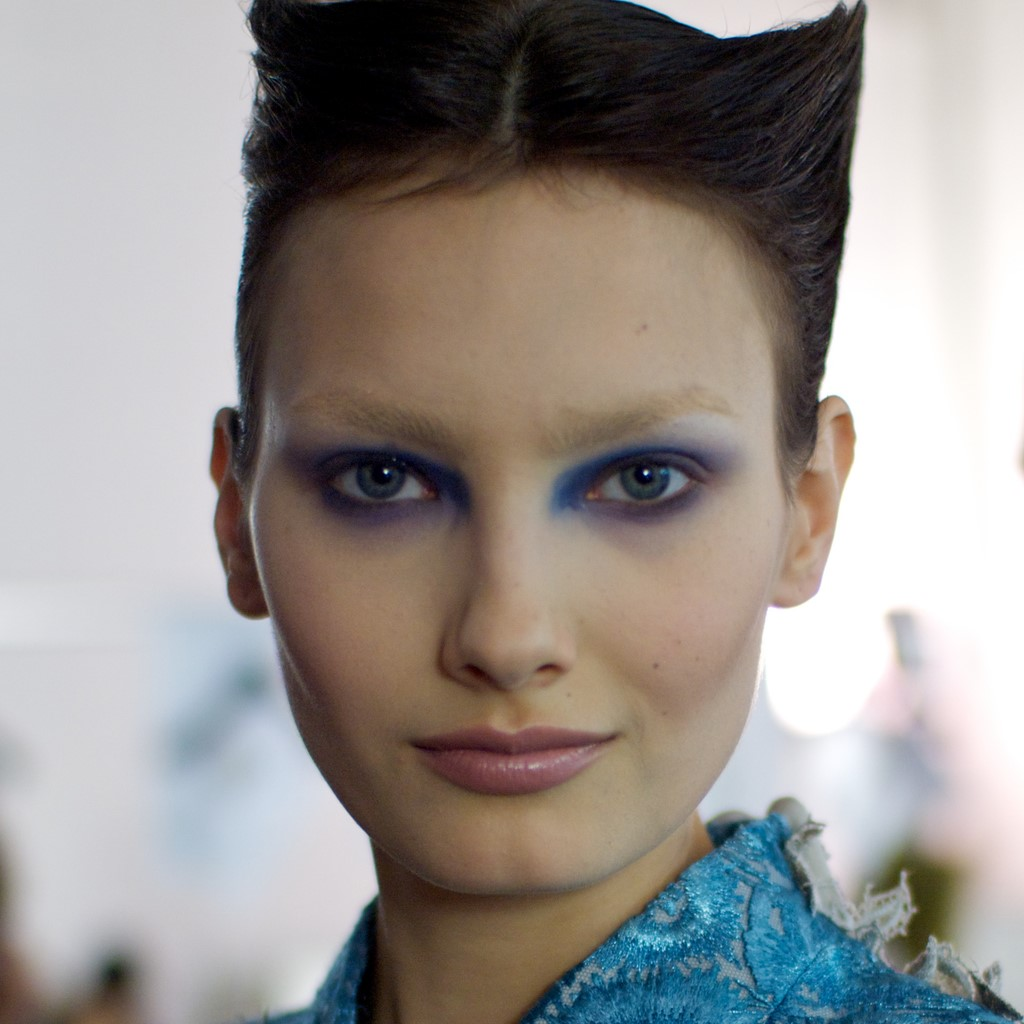sin_mascara: (233, 134, 808, 897)
